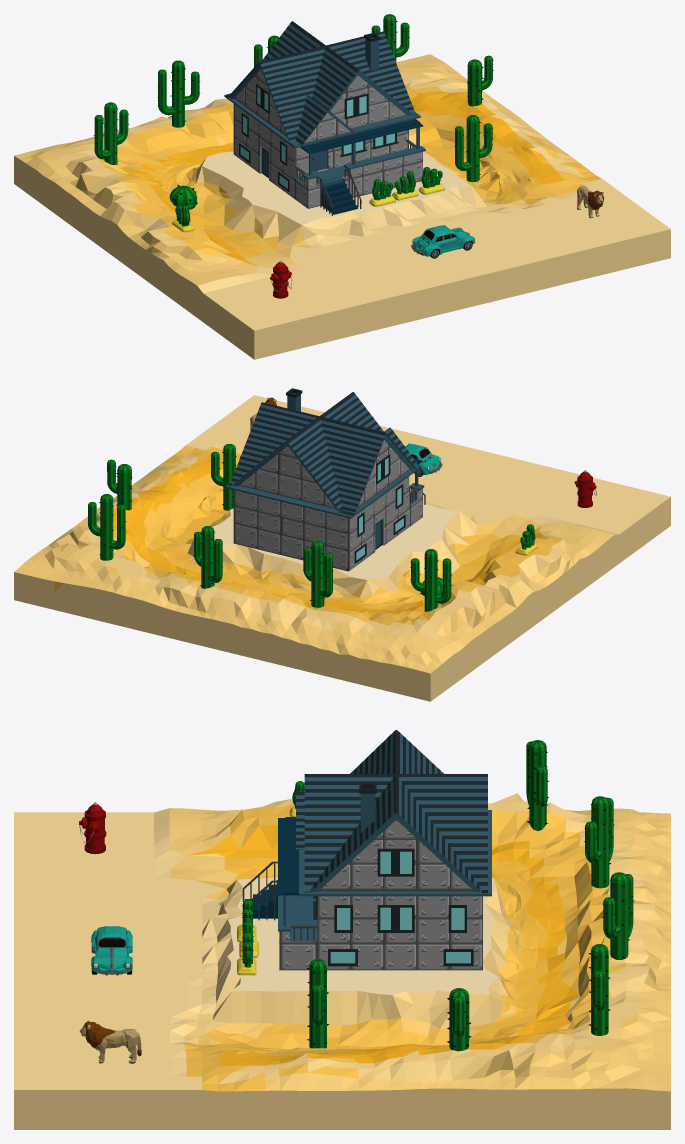
3 views of the same model, one above another, from view 1: azimuth 30°, elevation 25°; view 2: azimuth 150°, elevation 25°; view 3: azimuth 270°, elevation 25° (orthographic). The views are drawn at different scales.
Parts seen in each view (by area): view 1: Cube.001, Cube.078, Cylinder.037, Cylinder.044, Cylinder.045, VEHICLES_VOLKSWAGEN, Cylinder.038, Cylinder.042, OBJRANDOM_FIRE_HYDRANT, ANIMAL_LEON, Cylinder.039, Cylinder.041 (+2 smaller); view 2: Cube.001, Cube.078, Cylinder.042, Cylinder.045, Cylinder.044, Cylinder.043, Cylinder.037, Cylinder.038, VEHICLES_VOLKSWAGEN, OBJRANDOM_FIRE_HYDRANT; view 3: Cube.001, Cube.078, Cylinder.043, Cylinder.044, VEHICLES_VOLKSWAGEN, Cylinder.045, Cylinder.042, Cylinder.037, ANIMAL_LEON, Cylinder.038, OBJRANDOM_FIRE_HYDRANT, Cylinder.041.
Part boxes in pixels (<box>): Cube.001: <box>14,54,670,359</box>; Cube.078: <box>224,21,425,215</box>; Cylinder.037: <box>454,115,493,182</box>; Cylinder.044: <box>157,60,200,127</box>; Cylinder.045: <box>93,102,129,164</box>; VEHICLES_VOLKSWAGEN: <box>411,225,475,258</box>; Cylinder.038: <box>467,55,493,106</box>; Cylinder.042: <box>371,14,409,62</box>; OBJRANDOM_FIRE_HYDRANT: <box>270,260,292,298</box>; ANIMAL_LEON: <box>577,185,604,218</box>; Cylinder.039: <box>369,179,395,206</box>; Cylinder.041: <box>418,167,445,194</box>; Cube.001: <box>14,395,670,701</box>; Cube.078: <box>225,388,425,571</box>; Cylinder.042: <box>88,494,126,560</box>; Cylinder.045: <box>410,549,452,611</box>; Cylinder.044: <box>303,540,333,607</box>; Cylinder.043: <box>193,526,222,588</box>; Cylinder.037: <box>211,444,240,510</box>; Cylinder.038: <box>107,459,131,510</box>; VEHICLES_VOLKSWAGEN: <box>405,443,442,476</box>; OBJRANDOM_FIRE_HYDRANT: <box>574,470,596,507</box>; Cube.001: <box>14,793,670,1129</box>; Cube.078: <box>242,730,491,970</box>; Cylinder.043: <box>602,872,634,959</box>; Cylinder.044: <box>584,796,614,888</box>; VEHICLES_VOLKSWAGEN: <box>91,926,132,975</box>; Cylinder.045: <box>526,740,549,830</box>; Cylinder.042: <box>588,944,610,1035</box>; Cylinder.037: <box>307,959,329,1048</box>; ANIMAL_LEON: <box>79,1020,141,1063</box>; Cylinder.038: <box>447,988,471,1051</box>; OBJRANDOM_FIRE_HYDRANT: <box>79,802,106,854</box>; Cylinder.041: <box>237,932,256,975</box>.
Size of the model in its own units: 4002 by 1627 by 4001.
31 materials, 4 textured.
